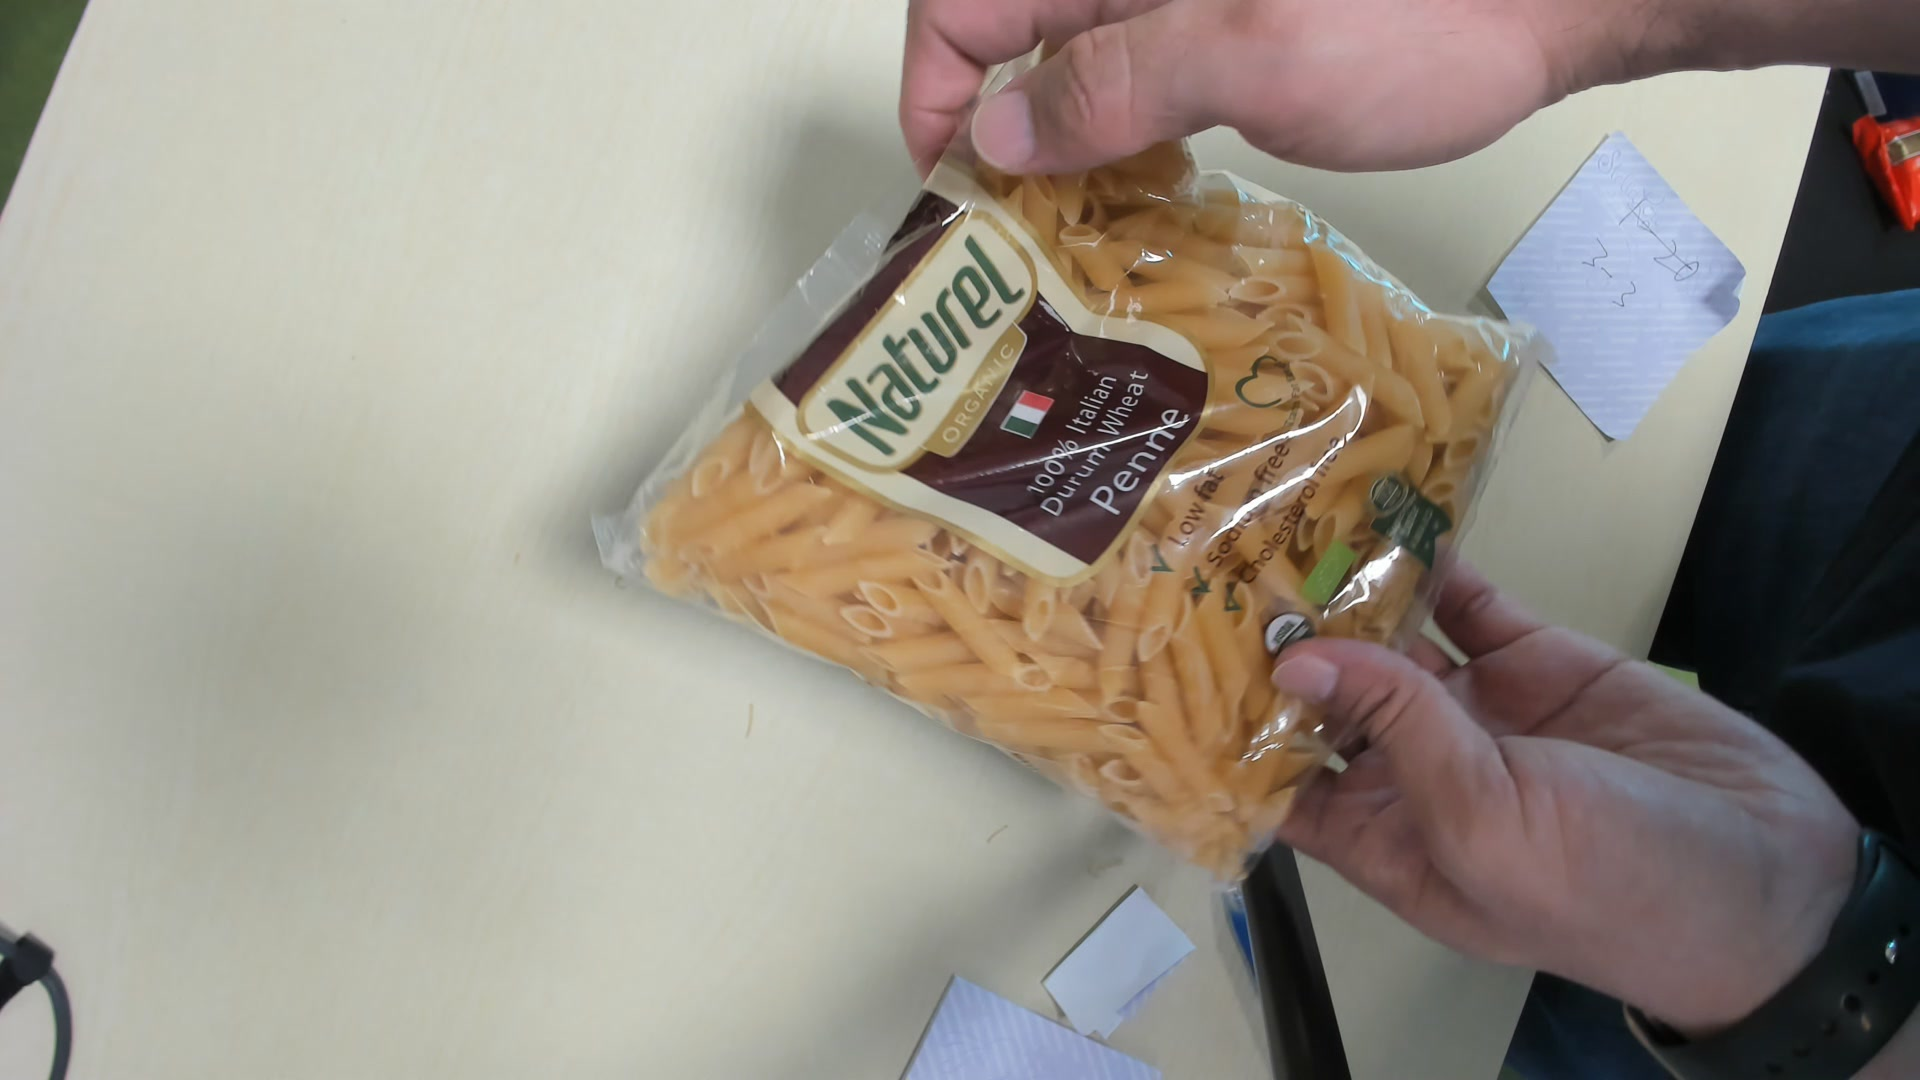Pasta_500-599g_Halal_NonHealthy: (607, 69, 1539, 876)
